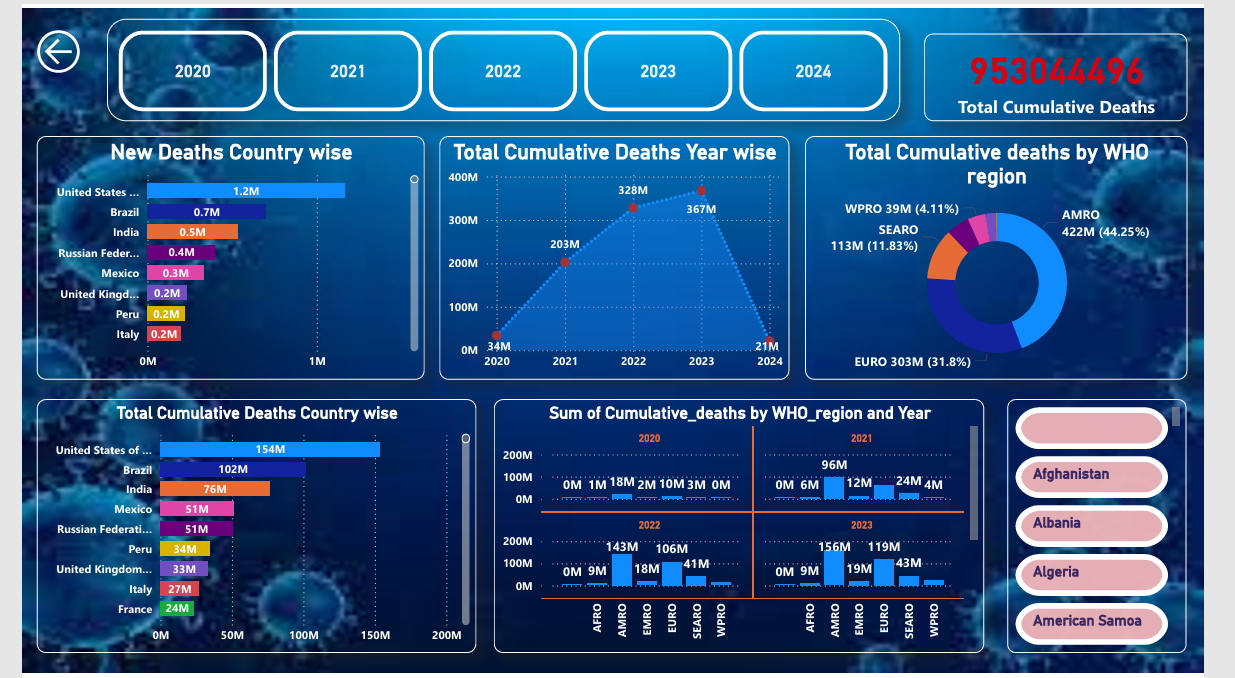

The dashboard page shown, as its layout file describes it:
{"tool":"powerbi","page":{"name":"Death Cases","canvas":[1280,720],"ordinal":3},"visuals":[{"type":"barChart","title":"Total Cumulative Deaths Country wise","fields":{"Category":["WHO-COVID-19-global-data (3).Country"],"Y":["Sum(WHO-COVID-19-global-data (3).Cumulative_deaths)"],"Series":["WHO-COVID-19-global-data (3).Country"]},"box":[15.9,423.1,475.6,275.2],"z":0},{"type":"lineChart","title":"Total Cumulative Deaths Year wise","fields":{"Category":["WHO-COVID-19-global-data (3).Date_reported.Variation.Date Hierarchy.Year"],"Y":["Sum(WHO-COVID-19-global-data (3).Cumulative_deaths)"]},"box":[451.7,138.4,378.6,264],"z":1000},{"type":"barChart","title":"New Deaths Country wise","fields":{"Category":["WHO-COVID-19-global-data (3).Country"],"Y":["Sum(WHO-COVID-19-global-data (3).New_deaths)"],"Series":["WHO-COVID-19-global-data (3).Country"]},"box":[15.9,138.4,419.9,264],"z":2000},{"type":"advancedSlicerVisual","fields":{"Values":["WHO-COVID-19-global-data (3).Date_reported.Variation.Date Hierarchy.Year"]},"box":[92.3,11.1,858.9,111.3],"z":3000},{"type":"advancedSlicerVisual","title":"Choose a country","fields":{"Values":["WHO-COVID-19-global-data (3).Country"]},"box":[1067.3,423.1,194.1,275.2],"z":4000},{"type":"card","fields":{"Values":["Sum(WHO-COVID-19-global-data (3).Cumulative_deaths)"]},"box":[976.6,27,284.7,95.4],"z":5000},{"type":"clusteredColumnChart","fields":{"Category":["WHO-COVID-19-global-data (3).WHO_region"],"Rows":["WHO-COVID-19-global-data (3).Date_reported.Variation.Date Hierarchy.Year"],"Y":["Sum(WHO-COVID-19-global-data (3).Cumulative_deaths)"]},"box":[510.6,423.1,531.3,275.2],"z":6000},{"type":"donutChart","title":"Total Cumulative deaths by WHO region","fields":{"Category":["WHO-COVID-19-global-data (3).WHO_region"],"Y":["Sum(WHO-COVID-19-global-data (3).Cumulative_deaths)"]},"box":[847.8,138.4,413.6,264],"z":7000},{"type":"actionButton","box":[0,0,79.5,92.3],"z":8000}]}

Visuals, with their boxes in screenshot pixels (x1, y1, x2, y2), scaled from the page's 1280x720 canvas onto the 1235x678 screenshot:
"Total Cumulative Deaths Country wise" barChart: BBox(15, 398, 474, 658)
"Total Cumulative Deaths Year wise" lineChart: BBox(436, 130, 801, 379)
"New Deaths Country wise" barChart: BBox(15, 130, 420, 379)
advancedSlicerVisual - WHO-COVID-19-global-data (3).Date_reported.Variation.Date Hierarchy.Year: BBox(89, 10, 918, 115)
"Choose a country" advancedSlicerVisual: BBox(1030, 398, 1217, 658)
card - Sum(WHO-COVID-19-global-data (3).Cumulative_deaths): BBox(942, 25, 1217, 115)
clusteredColumnChart - WHO-COVID-19-global-data (3).WHO_region x WHO-COVID-19-global-data (3).Date_reported.Variation.Date Hierarchy.Year: BBox(493, 398, 1005, 658)
"Total Cumulative deaths by WHO region" donutChart: BBox(818, 130, 1217, 379)
actionButton: BBox(0, 0, 77, 87)
